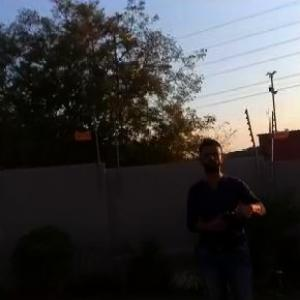follow: (180, 133, 269, 299)
